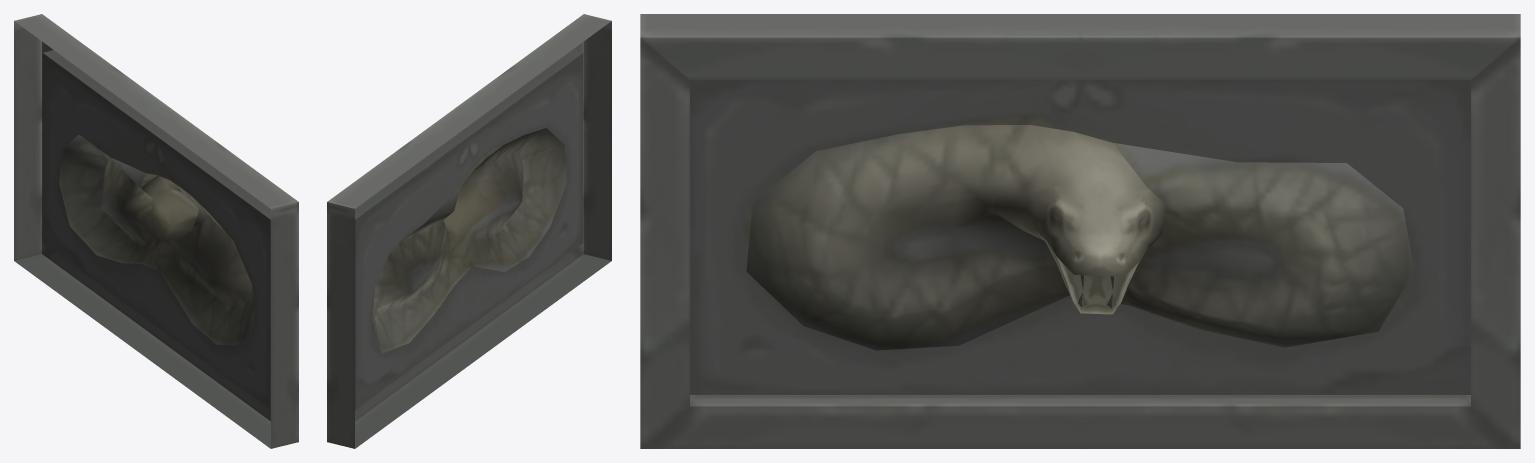
Rendered from sc_dungeon_moshenta_fudiao_001.FBX.
3 views of the same model, side by side, from view 1: azimuth 30°, elevation 25°; view 2: azimuth 150°, elevation 25°; view 3: azimuth 270°, elevation 25° (orthographic). The views are drawn at different scales.
Parts seen in each view (by area): view 1: sc_dungeon_moshenta_fudiao_001; view 2: sc_dungeon_moshenta_fudiao_001; view 3: sc_dungeon_moshenta_fudiao_001.
Part boxes in pixels (x1,y1,x2,y2): sc_dungeon_moshenta_fudiao_001: (14,14,298,448); sc_dungeon_moshenta_fudiao_001: (327,14,611,448); sc_dungeon_moshenta_fudiao_001: (640,14,1520,448).
Size of the model in its own units: 0.6626 by 2.85 by 1.47.
1 material, 1 textured.
